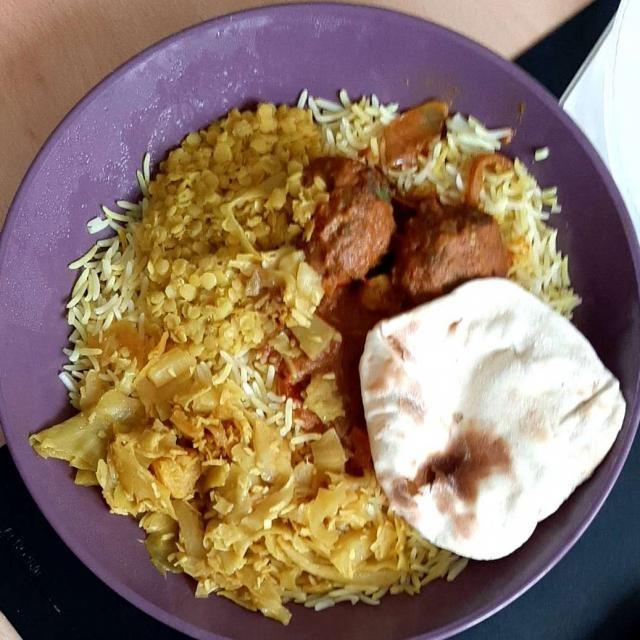naan-bread: (364, 282, 619, 554)
rice: (55, 94, 567, 603)
